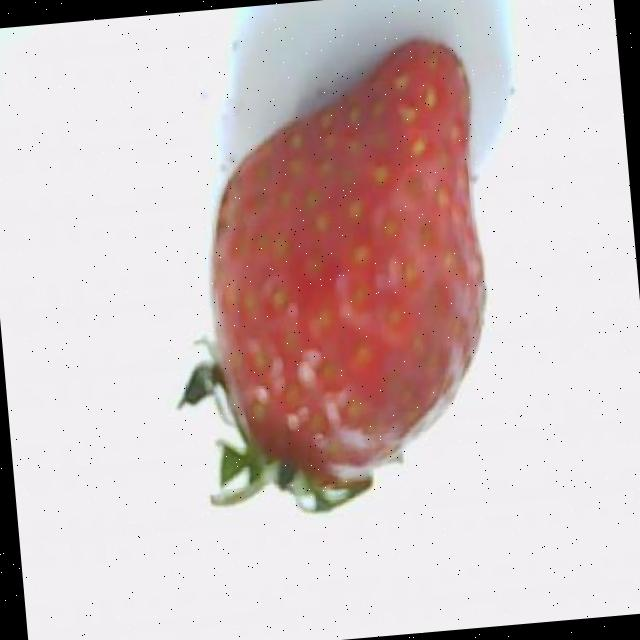strawberry: (178, 42, 484, 512)
